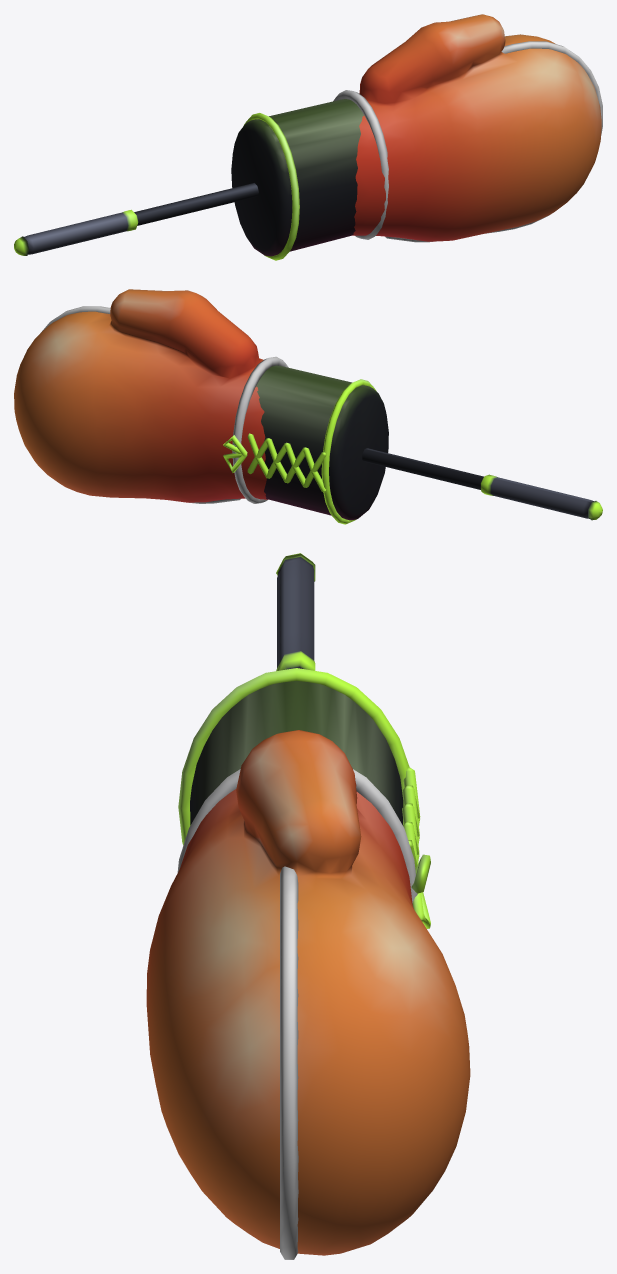
File: glove_giant.glb
The picture shows the model from 3 angles, top to bottom: view 1: azimuth 30°, elevation 25°; view 2: azimuth 150°, elevation 25°; view 3: azimuth 270°, elevation 25°; orthographic projection. The views are drawn at different scales.
Visible parts, largest first — view 1: Glove, Stick, Glow; view 2: Glove, Stick, Glow; view 3: Glove, Glow, Stick.
Boxes of the visible parts, x1,y1,x2,y2 form: Glove: [231, 14, 602, 256]; Stick: [14, 183, 258, 255]; Glow: [243, 113, 299, 260]; Glove: [14, 289, 388, 520]; Stick: [362, 448, 602, 520]; Glow: [223, 379, 376, 524]; Glove: [146, 681, 470, 1259]; Glow: [178, 668, 430, 928]; Stick: [276, 553, 315, 670].
Size of the model in its own units: 1.98 by 0.7075 by 0.4826.
